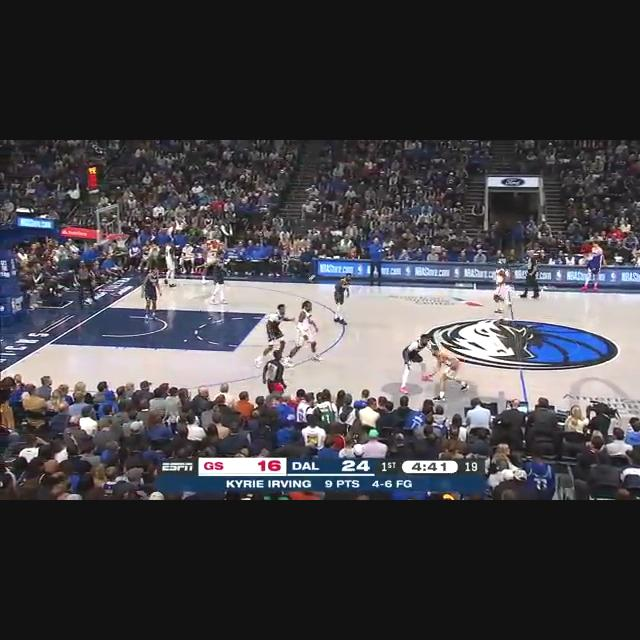Ball: (447, 359, 461, 375)
Team-1-Player: (395, 329, 439, 397), (256, 300, 296, 366), (132, 270, 166, 324), (326, 272, 358, 324), (208, 247, 232, 310)
Team-2-Player: (426, 344, 474, 402), (292, 298, 324, 366), (486, 262, 512, 318), (163, 236, 181, 288), (204, 238, 220, 266)
